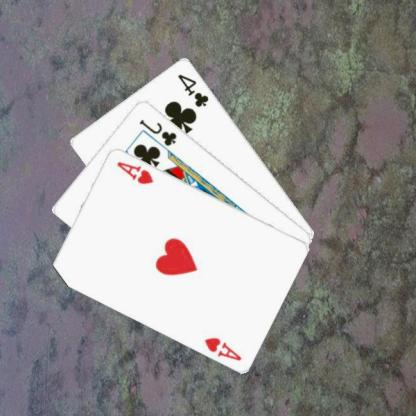4C: (176, 70, 212, 108)
AH: (204, 334, 245, 362), (116, 158, 156, 185)
JC: (138, 116, 180, 148)
